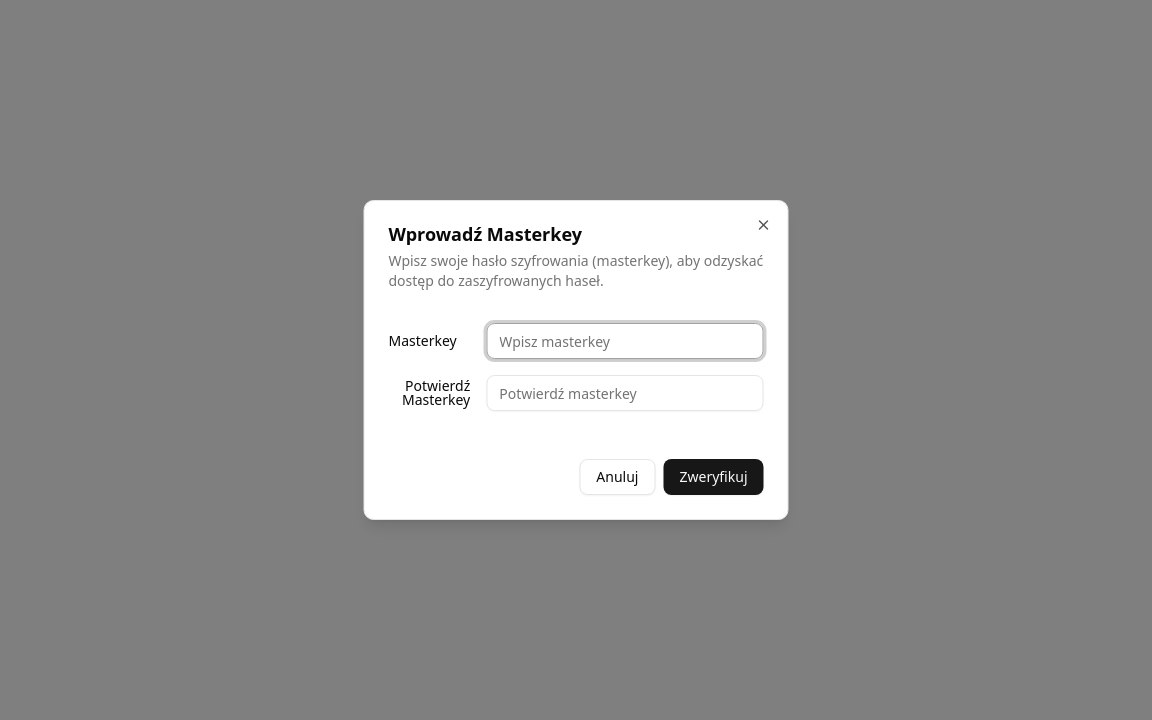
it: Komponent RecoverMasterkeyDialog › wyświetla błąd walidacji, gdy masterkey i potwierdzenie nie są identyczne
Type "key123" into the password field labelled "Masterkey" at (625, 341), box x1=486 y1=323 x2=764 y2=359
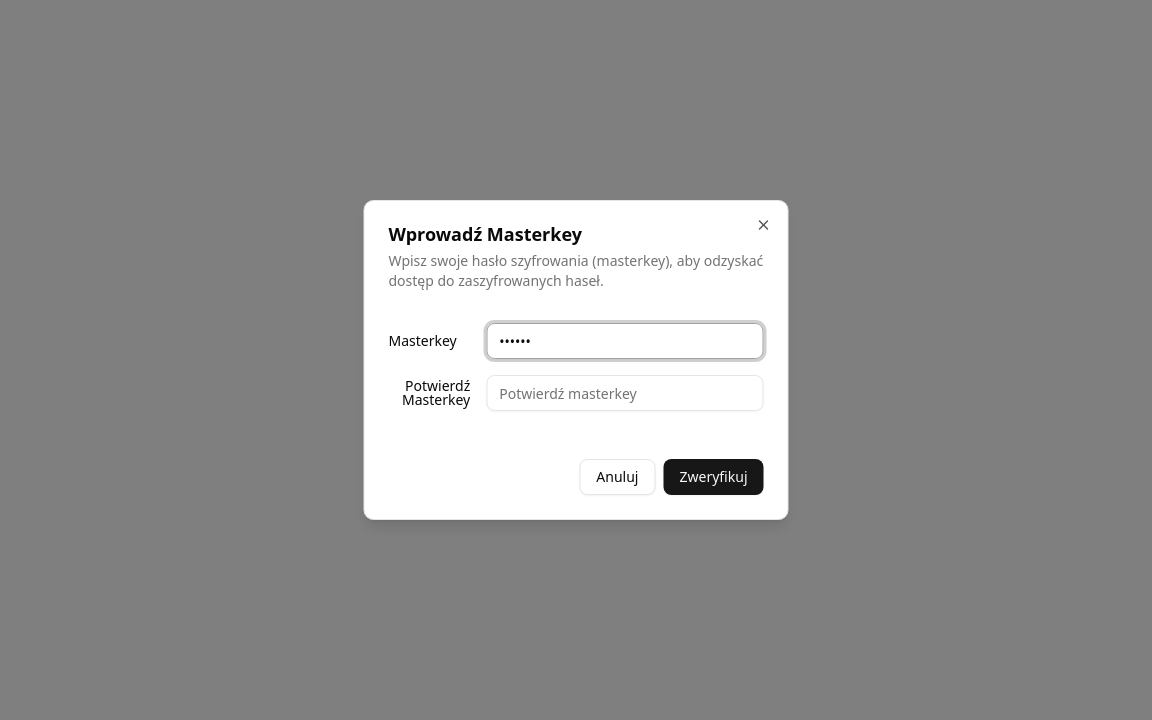
Type "key456" into the password field labelled "Potwierdź Masterkey" at (625, 393), box x1=486 y1=375 x2=764 y2=411
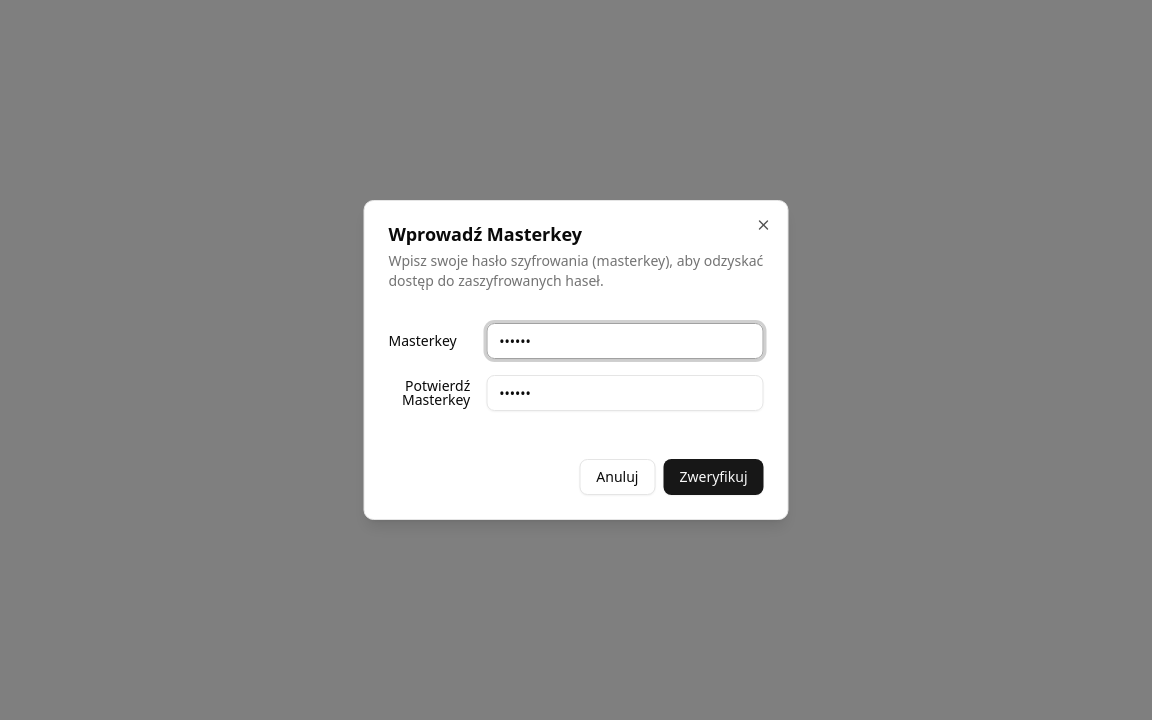
Click the button "Zweryfikuj" at (714, 477), box x1=664 y1=459 x2=764 y2=495
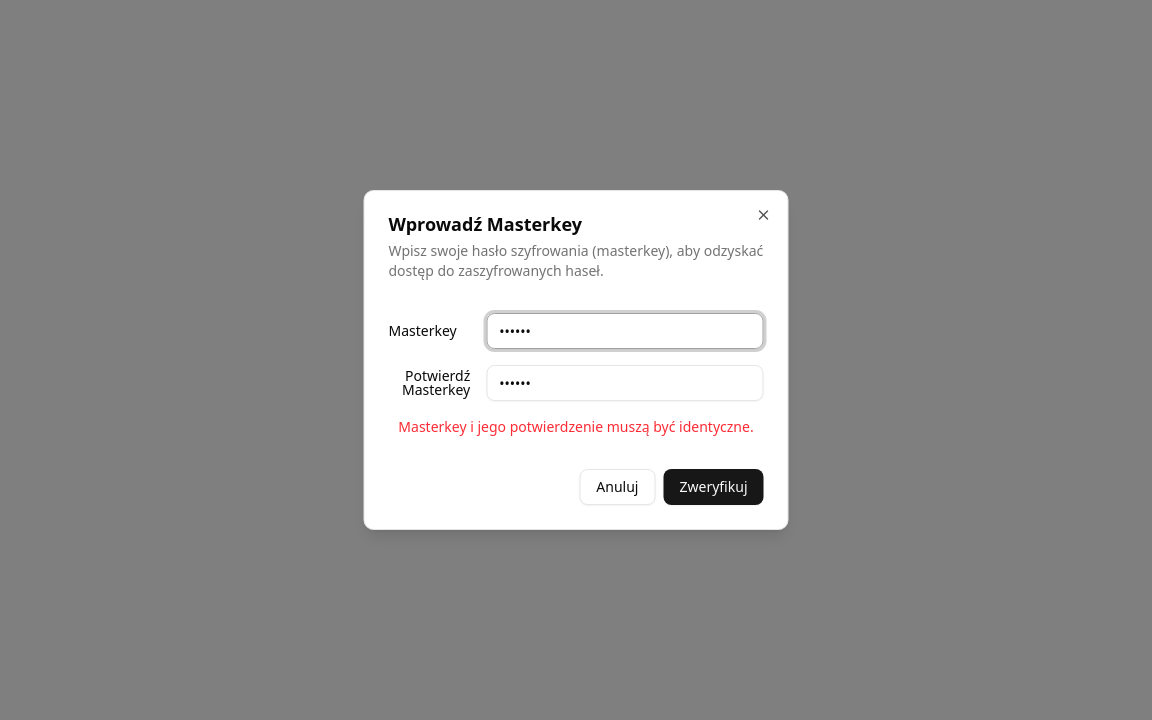
Result: the text "Masterkey i jego potwierdzenie muszą być identyczne." is shown at x1=388 y1=417 x2=764 y2=437
